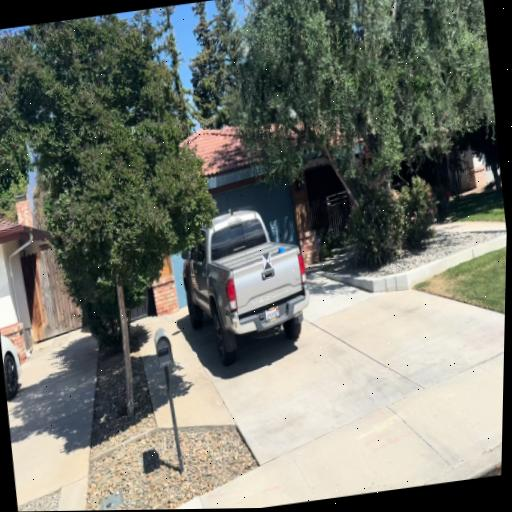target1: (261, 252, 272, 269)
